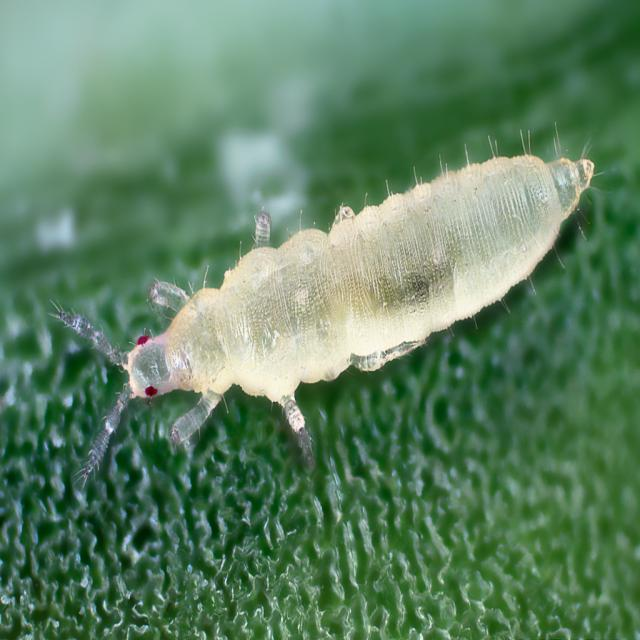Thrip-Larva-: (36, 116, 598, 489)
